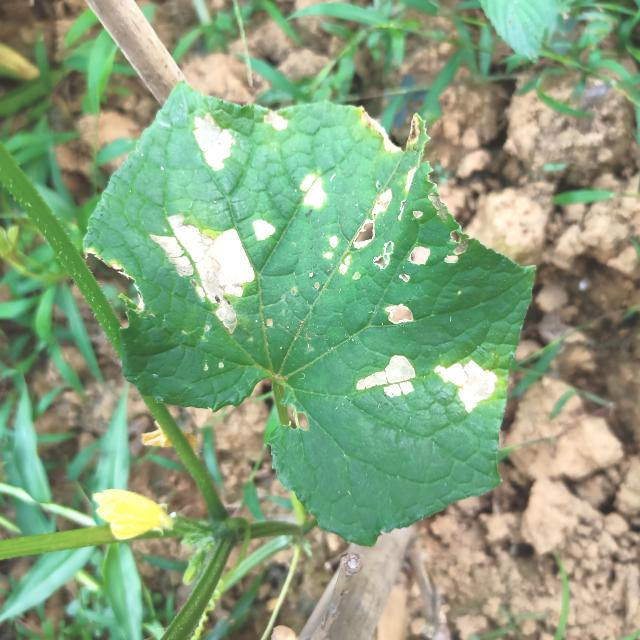disease_cucumber: (158, 207, 286, 342), (320, 186, 408, 278), (433, 338, 500, 414), (348, 348, 421, 408), (179, 110, 240, 175), (296, 165, 335, 216), (255, 108, 288, 132)
